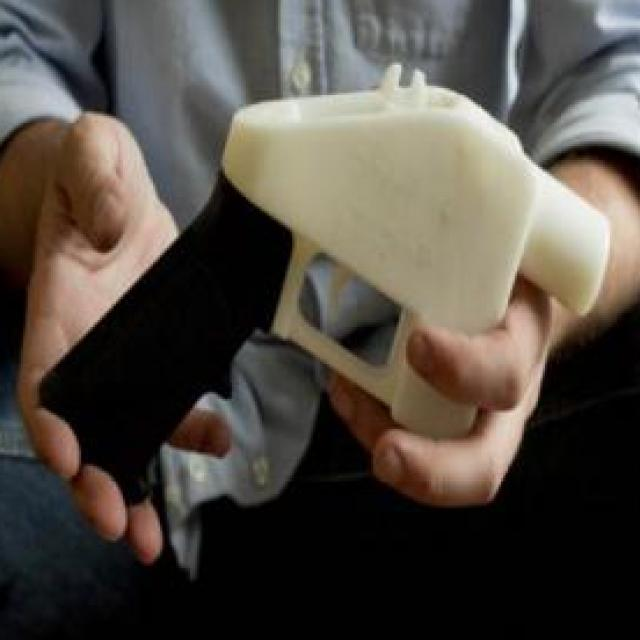pistol: (39, 63, 614, 517)
